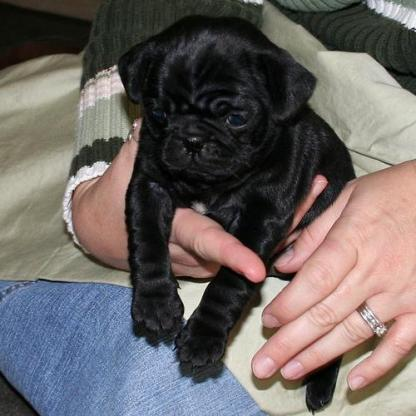pug: (112, 8, 358, 412)
